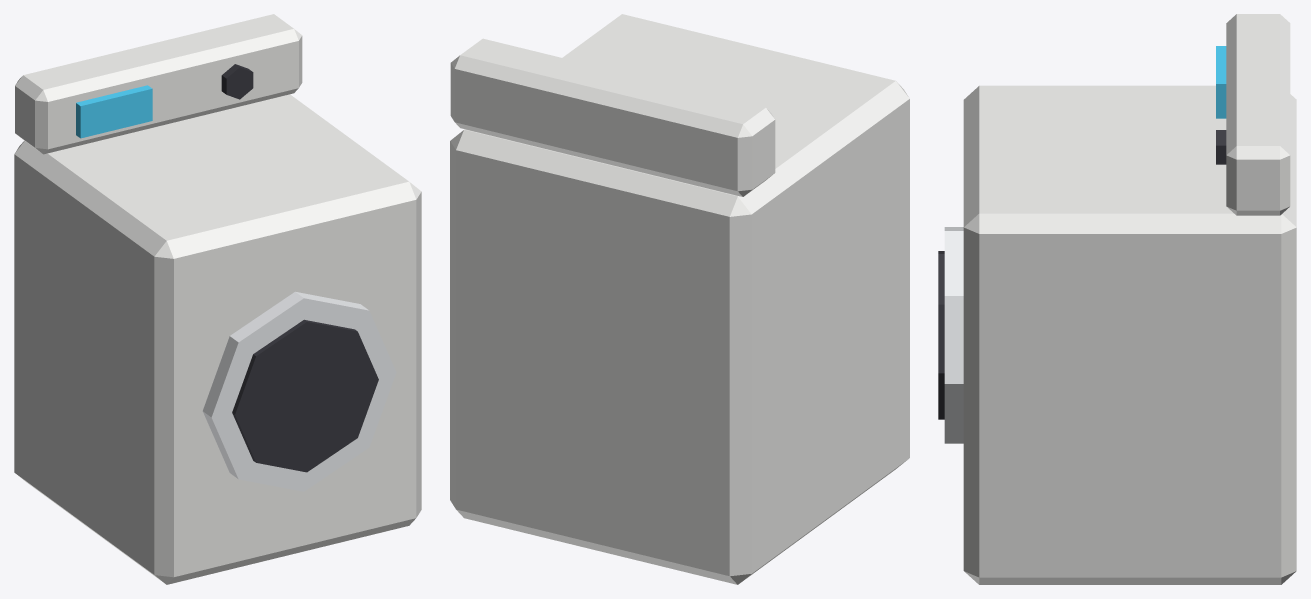
Rendered from CoinDryer.fbx.
3 renders of one model, left to right at view 1: azimuth 30°, elevation 25°; view 2: azimuth 150°, elevation 25°; view 3: azimuth 270°, elevation 25°, orthographic. The views are drawn at different scales.
Visible parts, largest first — view 1: CoinDryer; view 2: CoinDryer; view 3: CoinDryer.
Part boxes in pixels (x1,y1,x2,y2): CoinDryer: (14,14,421,584); CoinDryer: (450,14,909,584); CoinDryer: (938,14,1296,584).
Size of the model in its own units: 2.6 by 3.8 by 2.8.
1 material, 1 textured.
